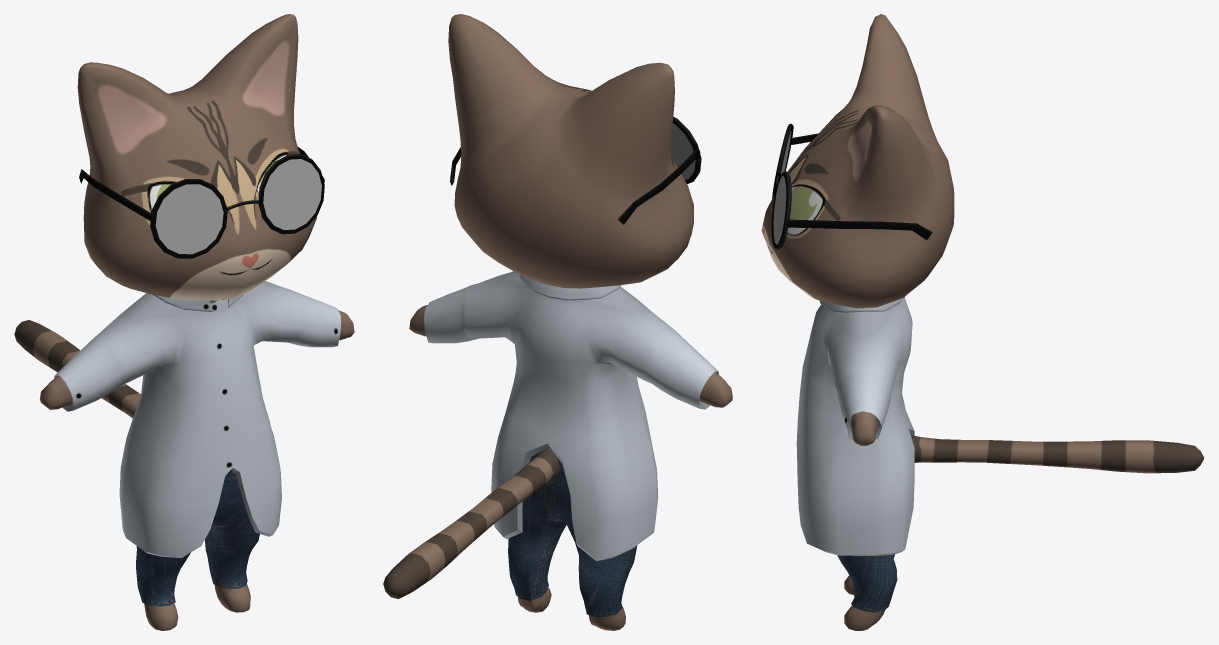
File: cat_saxophonist.fbx
The picture shows the model from 3 angles, left to right: view 1: azimuth 30°, elevation 25°; view 2: azimuth 150°, elevation 25°; view 3: azimuth 270°, elevation 25°; orthographic projection. The views are drawn at different scales.
Parts seen in each view (by area): view 1: Cat_Saxophonist; view 2: Cat_Saxophonist; view 3: Cat_Saxophonist.
Boxes of the visible parts, x1,y1,x2,y2 form: Cat_Saxophonist: [14, 14, 354, 630]; Cat_Saxophonist: [383, 14, 732, 630]; Cat_Saxophonist: [761, 14, 1204, 630].
Size of the model in its own units: 1.79 by 3.14 by 2.31.
